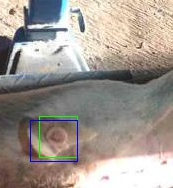text: (39, 116, 77, 157)
